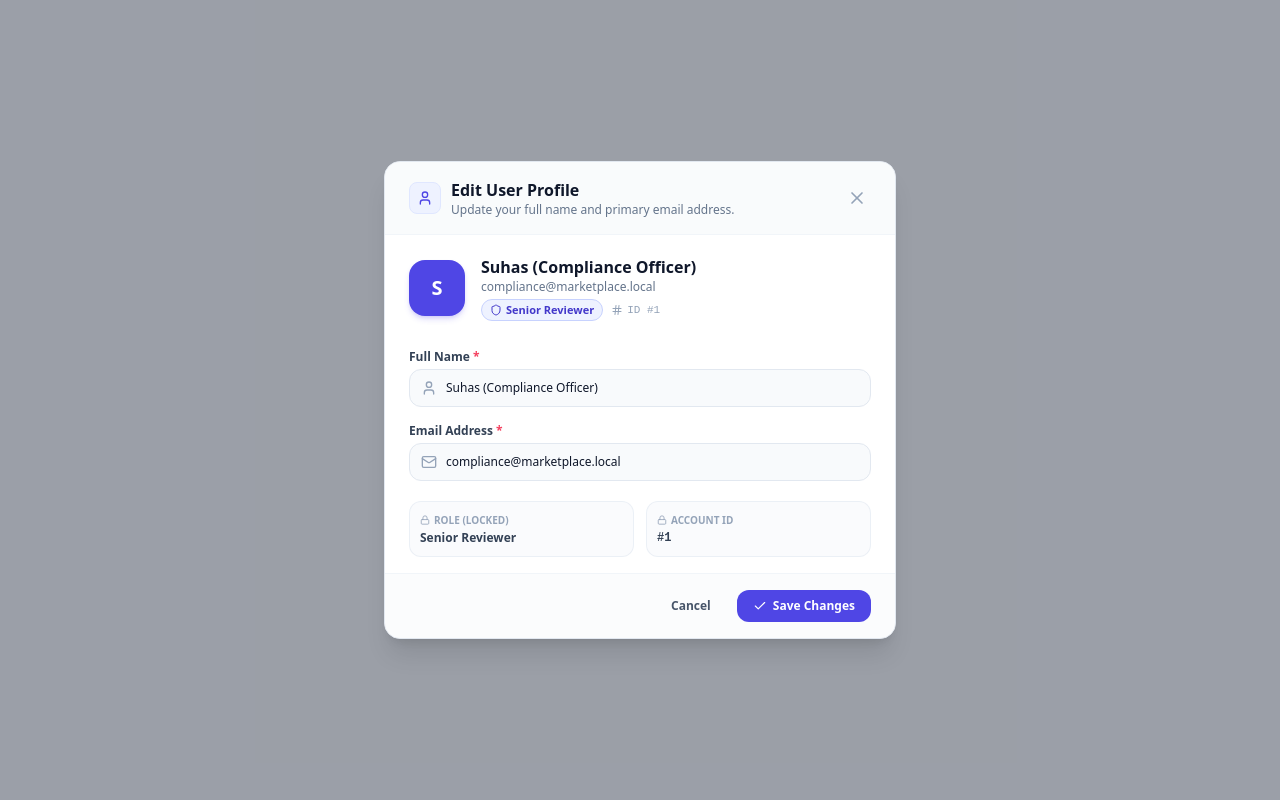
Test case: ProfileModal Component › shows validation errors when fields are cleared in Edit mode
Clear the 1st field showing "Suhas (Compliance Officer)": (640, 388) [409,369,871,407]
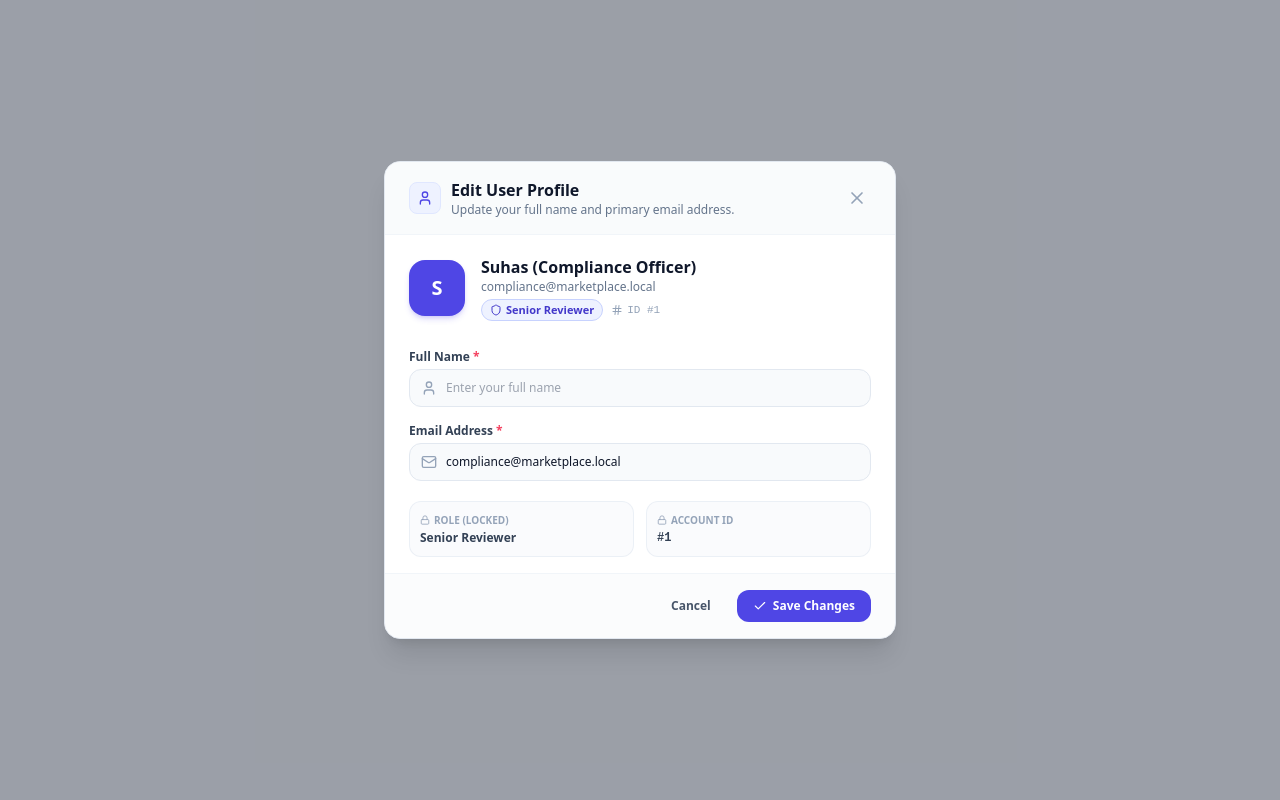
Click the button "Save Changes": (804, 606) [737,590,871,622]
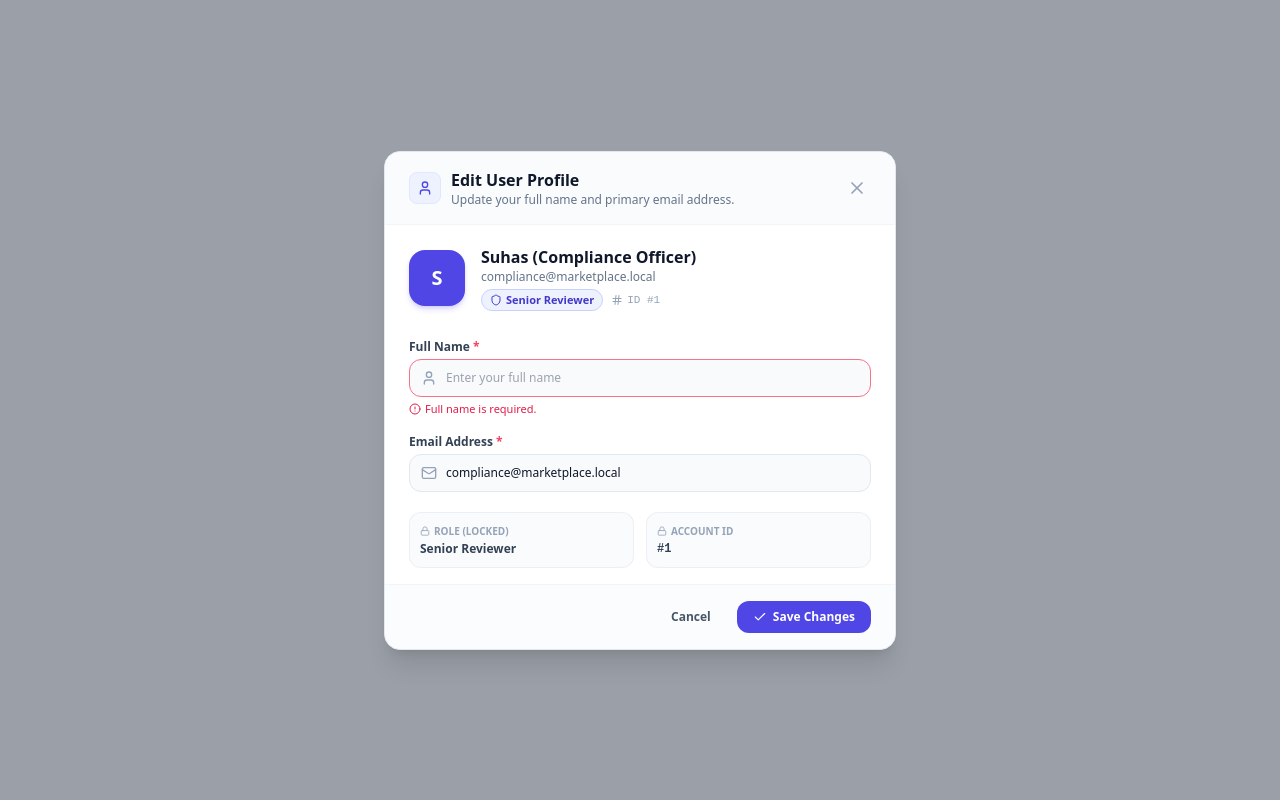
Now the text "Full name is required." is shown, box [409,401,536,416]
